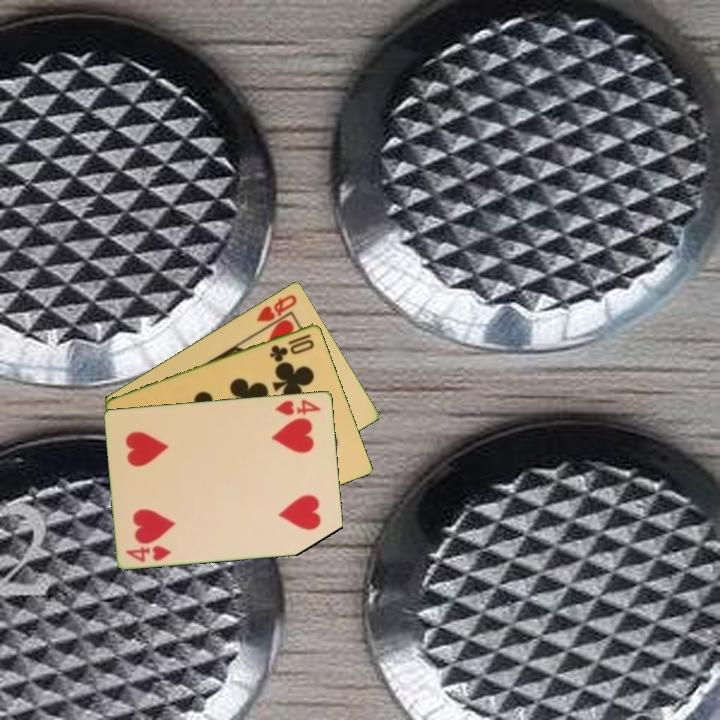10c: (266, 330, 317, 364)
4h: (271, 395, 324, 418), (122, 542, 174, 564)
Qh: (252, 290, 300, 324)
